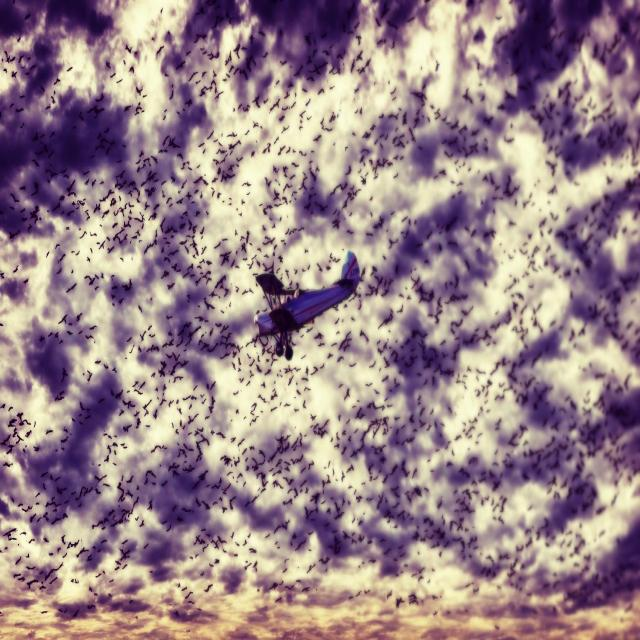airplane: (253, 249, 360, 360)
